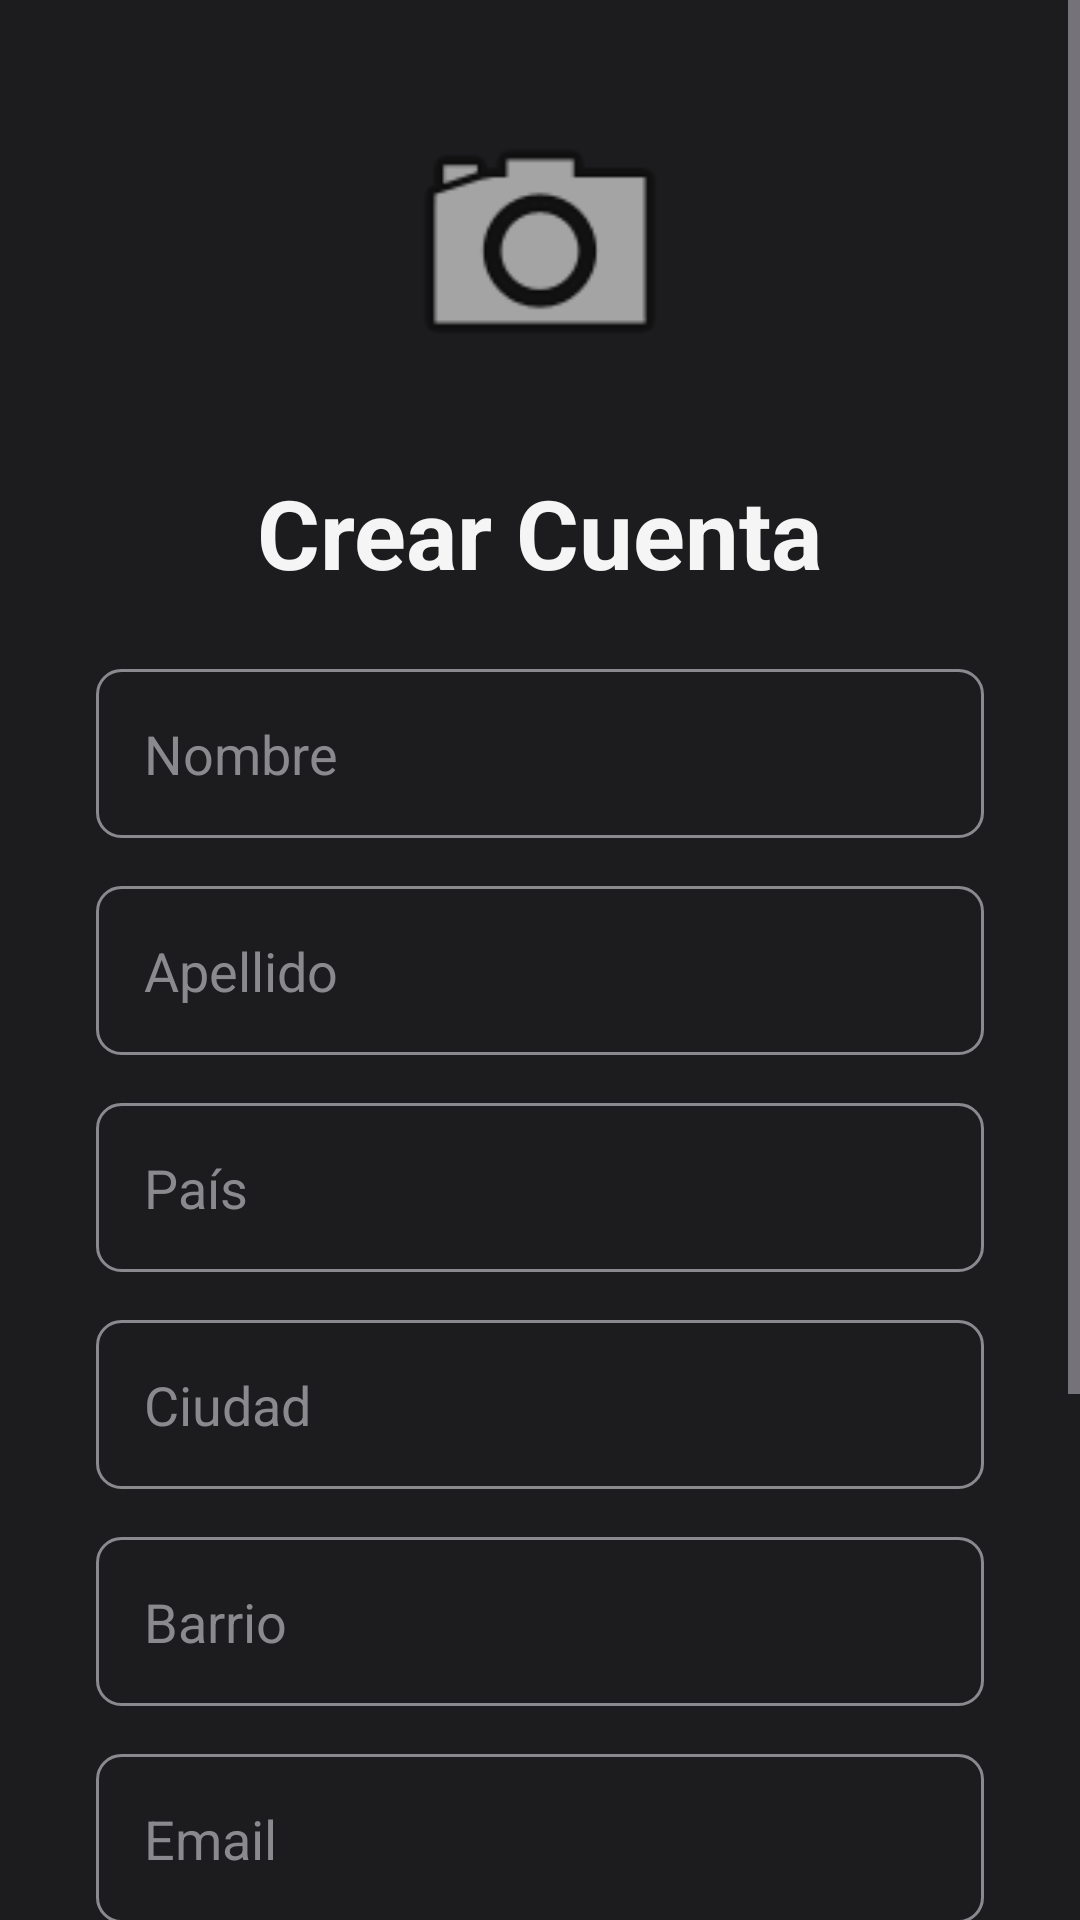

Where icons sit on this 1080 × 1920 app screen, as (x1, y1, x2, y2):
camera: (433, 158, 647, 324)
